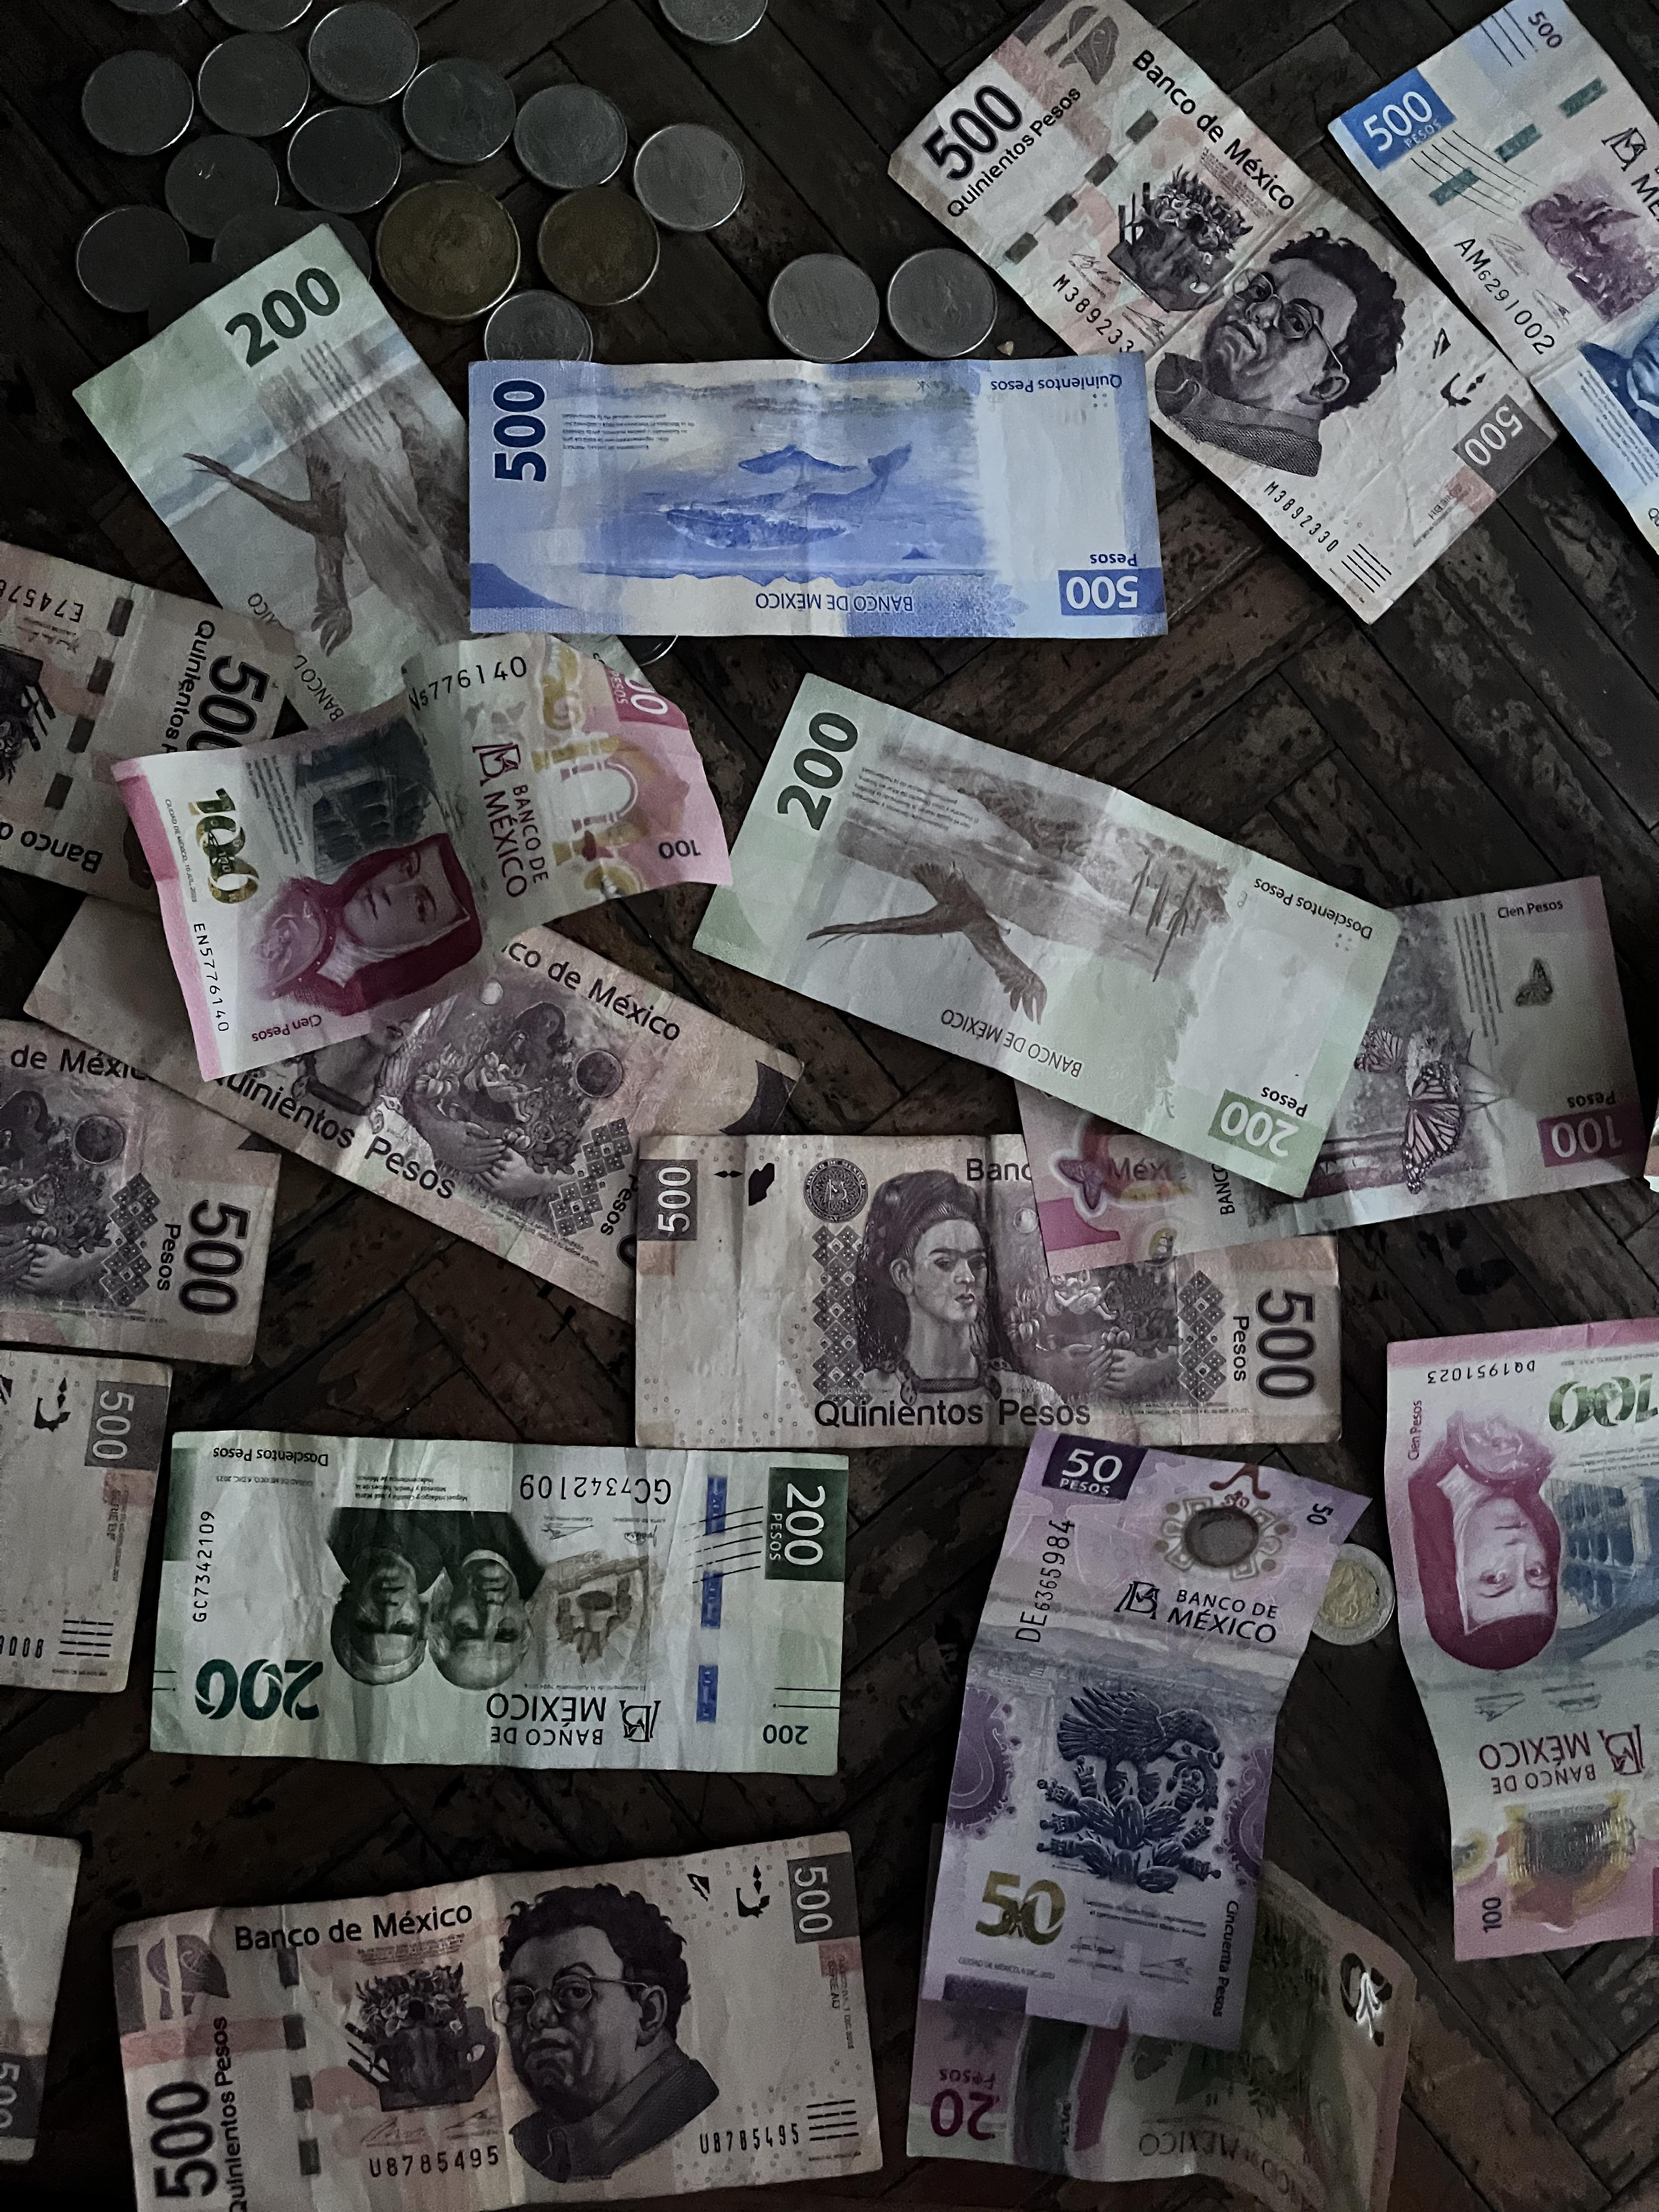100: (106, 622, 762, 1097), (1019, 878, 1659, 1263), (1380, 1322, 1659, 1959)
200: (687, 669, 1412, 1205), (136, 1420, 880, 1796), (70, 223, 619, 726)
50: (913, 1420, 1364, 2059)
500: (880, 0, 1567, 631), (17, 820, 817, 1346), (108, 1825, 884, 2212), (629, 1125, 1366, 1461), (0, 529, 291, 920), (0, 1017, 258, 1374), (0, 1345, 150, 1696)
500 nuevo: (462, 348, 1173, 643), (1326, 0, 1659, 552)
